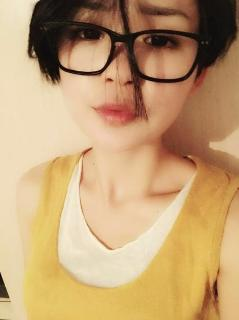vest dress: (22, 147, 239, 319)
